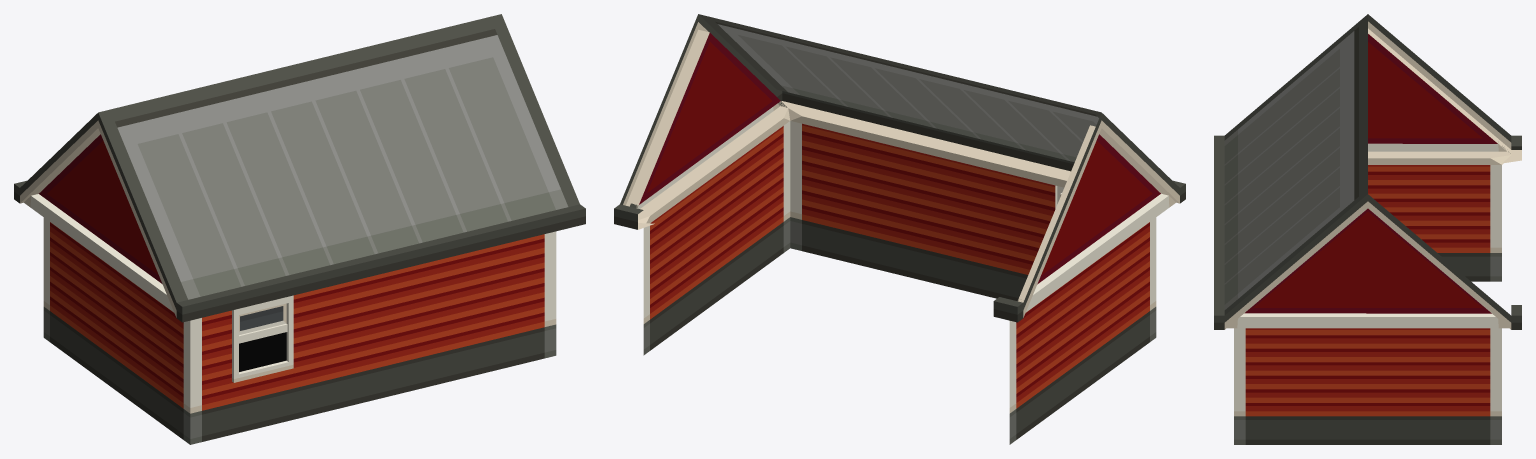
Rendered from houseNeighbor.glb.
The picture shows the model from 3 angles, left to right: view 1: azimuth 30°, elevation 25°; view 2: azimuth 150°, elevation 25°; view 3: azimuth 270°, elevation 25°; orthographic projection. The views are drawn at different scales.
Parts seen in each view (by area): view 1: roof, house; view 2: house, roof; view 3: roof, house.
Part boxes in pixels (x1,y1,x2,y2): roof: (14, 14, 585, 322); house: (43, 217, 556, 444); house: (638, 101, 1156, 444); roof: (614, 14, 1185, 322); roof: (1214, 14, 1521, 329); house: (1234, 150, 1521, 444).
Size of the model in its own units: 13.5 by 9.06 by 9.75.
Materials: 1 (1 with a texture image).
